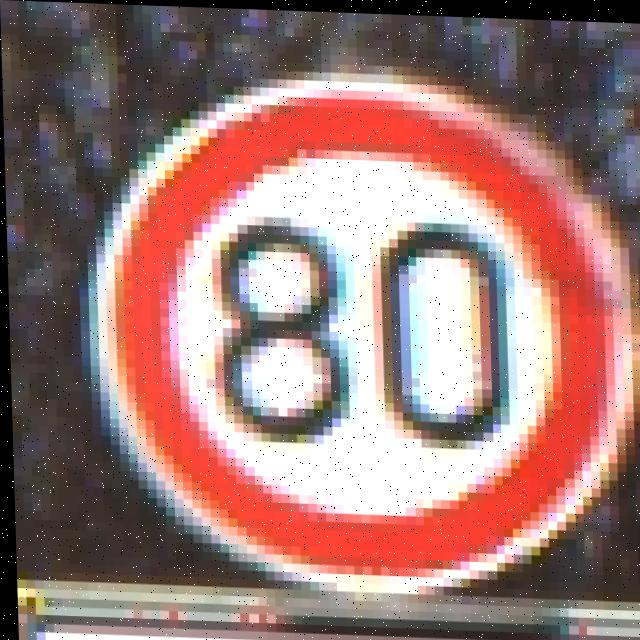speed_limit_80: (93, 69, 640, 594)
